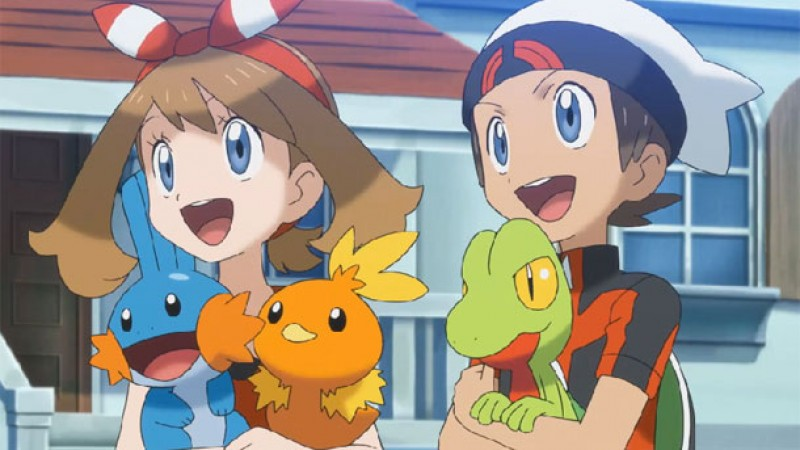mudkip: (82, 160, 259, 450)
